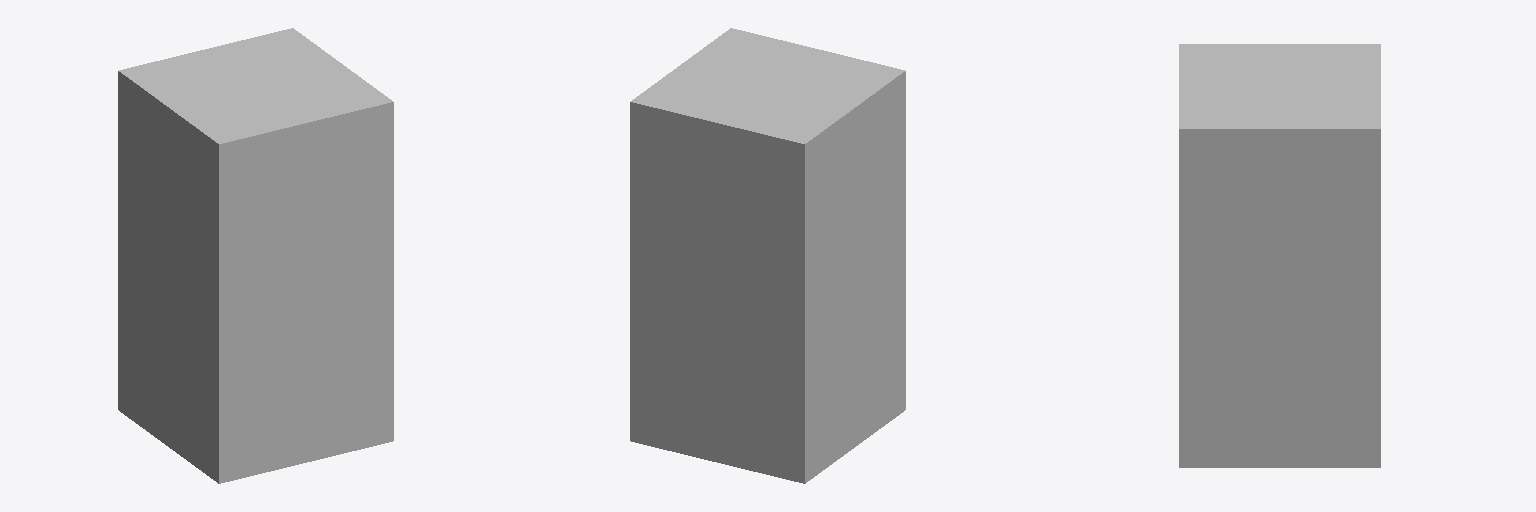
The model's file is Foundation_Large.obj.
The picture shows the model from 3 angles: view 1: azimuth 30°, elevation 25°; view 2: azimuth 150°, elevation 25°; view 3: azimuth 270°, elevation 25°; orthographic projection.
Parts seen in each view (by area): view 1: polySurface4657 polySurface3920; view 2: polySurface4657 polySurface3920; view 3: polySurface4657 polySurface3920.
Part boxes in pixels (x1,y1,x2,y2): polySurface4657 polySurface3920: (118, 28, 393, 483); polySurface4657 polySurface3920: (630, 28, 905, 483); polySurface4657 polySurface3920: (1179, 44, 1380, 467).
Bounding box in the file's own units: 529 × 983 × 529.